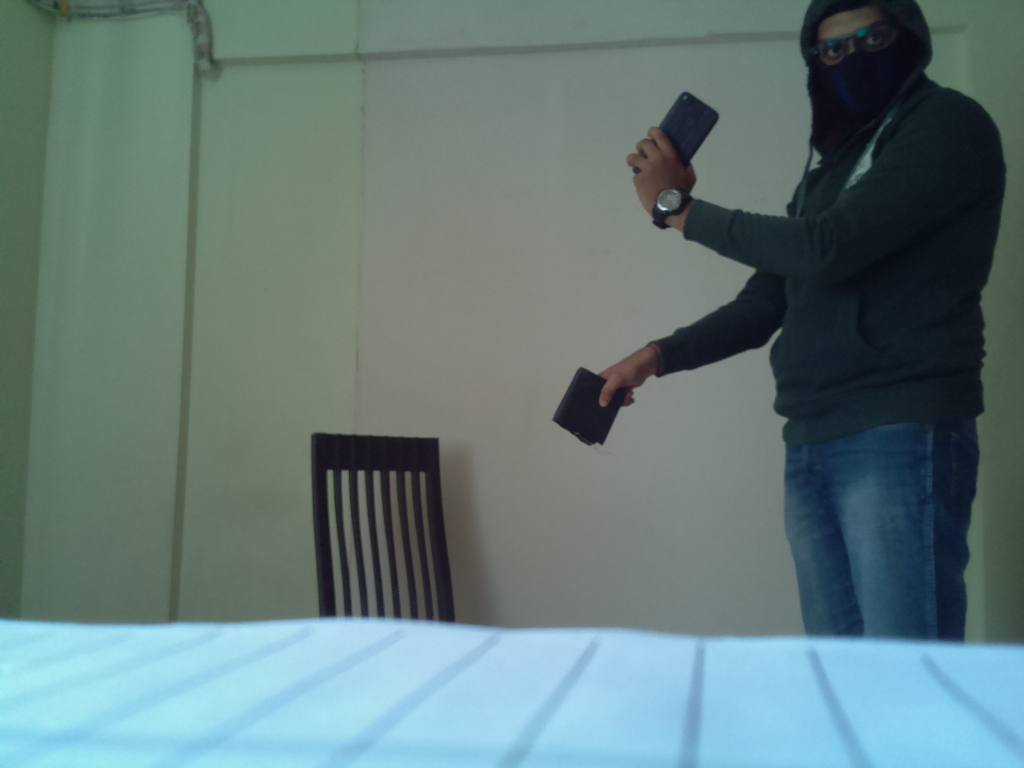none2: (638, 86, 731, 171), (544, 364, 630, 454), (652, 183, 695, 217)
